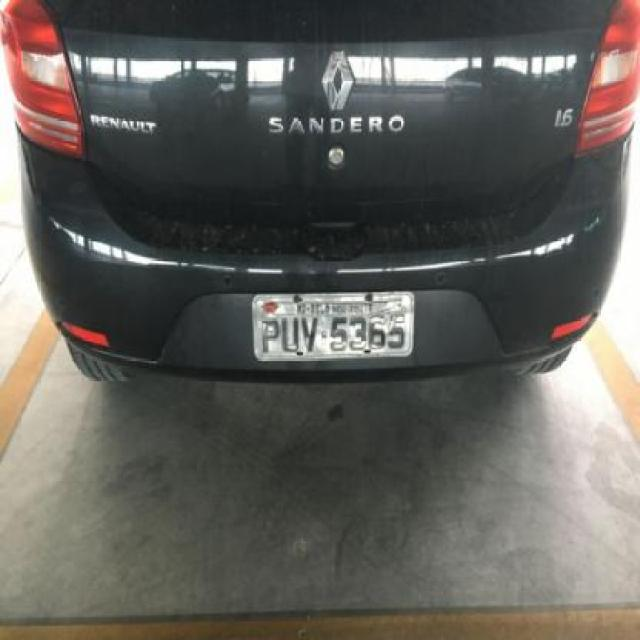old_plate: (249, 289, 419, 363)
